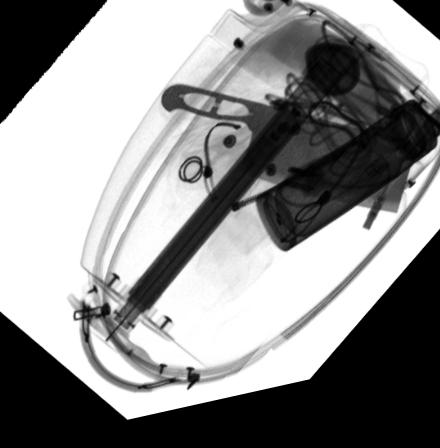Knife: (160, 91, 417, 231)
